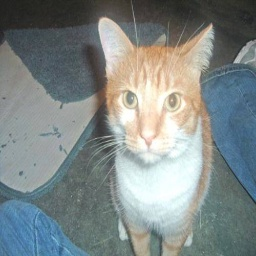cat: (93, 15, 213, 256)
